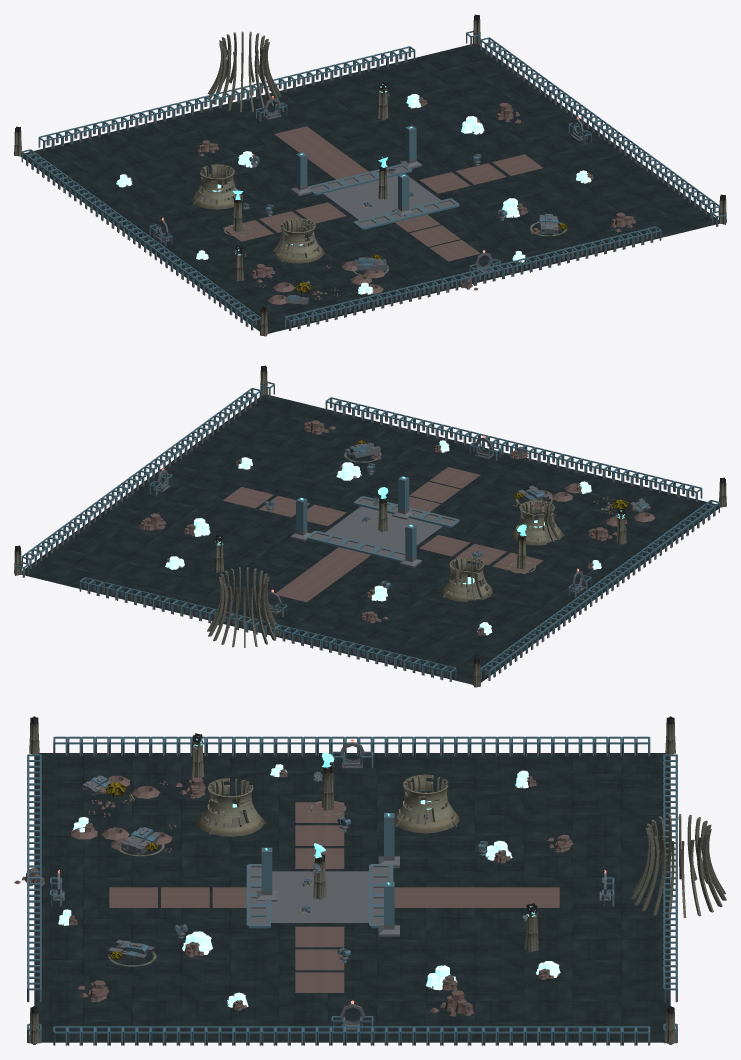
File: frostline.glb
The picture shows the model from 3 angles, top to bottom: view 1: azimuth 30°, elevation 25°; view 2: azimuth 150°, elevation 25°; view 3: azimuth 270°, elevation 25°; orthographic projection. The views are drawn at different scales.
Parts seen in each view (by area): view 1: Ceiling (×86), mesh_51_Mesh_tall_arch_subset_0, Mesh_terrain_roadStraight (×4), CryoCondenser_A__mesh_155_Mesh_cool_tower_fins_subset_0, CryoCondenser_B__mesh_155_Mesh_cool_tower_fins_subset_0, CryoCondenser_B__mesh_155_Mesh_cool_tower_fins_subset_1, CryoCondenser_A__mesh_155_Mesh_cool_tower_fins_subset_1; view 2: Ceiling (×84), mesh_51_Mesh_tall_arch_subset_0, Mesh_terrain_roadStraight (×2), CryoCondenser_A__mesh_155_Mesh_cool_tower_fins_subset_0, CryoCondenser_B__mesh_155_Mesh_cool_tower_fins_subset_0, CryoCondenser_A__mesh_155_Mesh_cool_tower_fins_subset_1, CryoCondenser_B__mesh_155_Mesh_cool_tower_fins_subset_1; view 3: Ceiling (×158), Mesh_terrain_roadStraight (×13), mesh_51_Mesh_tall_arch_subset_0, CryoCondenser_A__mesh_155_Mesh_cool_tower_fins_subset_0, CryoCondenser_B__mesh_155_Mesh_cool_tower_fins_subset_0, CryoCondenser_B__mesh_155_Mesh_cool_tower_fins_subset_1, CryoCondenser_A__mesh_155_Mesh_cool_tower_fins_subset_1.
Boxes of the visible parts, bbox=[...] form: Ceiling (×86): bbox=[51, 43, 718, 304]; mesh_51_Mesh_tall_arch_subset_0: bbox=[207, 31, 281, 112]; Mesh_terrain_roadStraight (×4): bbox=[295, 154, 542, 223]; CryoCondenser_A__mesh_155_Mesh_cool_tower_fins_subset_0: bbox=[191, 164, 242, 209]; CryoCondenser_B__mesh_155_Mesh_cool_tower_fins_subset_0: bbox=[272, 218, 323, 263]; CryoCondenser_B__mesh_155_Mesh_cool_tower_fins_subset_1: bbox=[272, 219, 325, 261]; CryoCondenser_A__mesh_155_Mesh_cool_tower_fins_subset_1: bbox=[193, 165, 236, 204]; Ceiling (×84): bbox=[22, 394, 689, 663]; mesh_51_Mesh_tall_arch_subset_0: bbox=[207, 567, 280, 647]; Mesh_terrain_roadStraight (×2): bbox=[223, 487, 470, 556]; CryoCondenser_A__mesh_155_Mesh_cool_tower_fins_subset_0: bbox=[441, 557, 492, 601]; CryoCondenser_B__mesh_155_Mesh_cool_tower_fins_subset_0: bbox=[511, 500, 562, 545]; CryoCondenser_A__mesh_155_Mesh_cool_tower_fins_subset_1: bbox=[443, 558, 490, 601]; CryoCondenser_B__mesh_155_Mesh_cool_tower_fins_subset_1: bbox=[517, 501, 564, 541]; Ceiling (×158): bbox=[34, 753, 670, 1042]; Mesh_terrain_roadStraight (×13): bbox=[109, 802, 559, 992]; mesh_51_Mesh_tall_arch_subset_0: bbox=[630, 814, 726, 918]; CryoCondenser_A__mesh_155_Mesh_cool_tower_fins_subset_0: bbox=[394, 775, 459, 833]; CryoCondenser_B__mesh_155_Mesh_cool_tower_fins_subset_0: bbox=[197, 778, 263, 836]; CryoCondenser_B__mesh_155_Mesh_cool_tower_fins_subset_1: bbox=[204, 778, 265, 834]; CryoCondenser_A__mesh_155_Mesh_cool_tower_fins_subset_1: bbox=[394, 775, 457, 826].
Size of the model in its own units: 172 by 19.27 by 175.
Materials: 182 (18 with a texture image).
